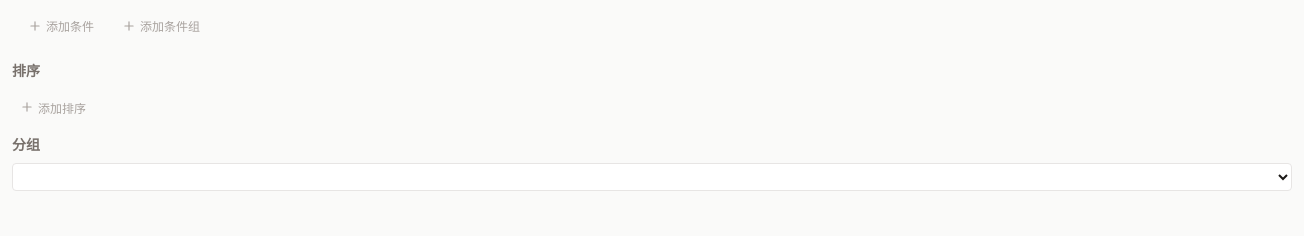
Scenario: FilterBuilder 字段选择器 › 渲染注册表中的全部字段
The image size is (1304, 236).
Click the button "添加条件" at (61, 26), box [20,14,102,37]
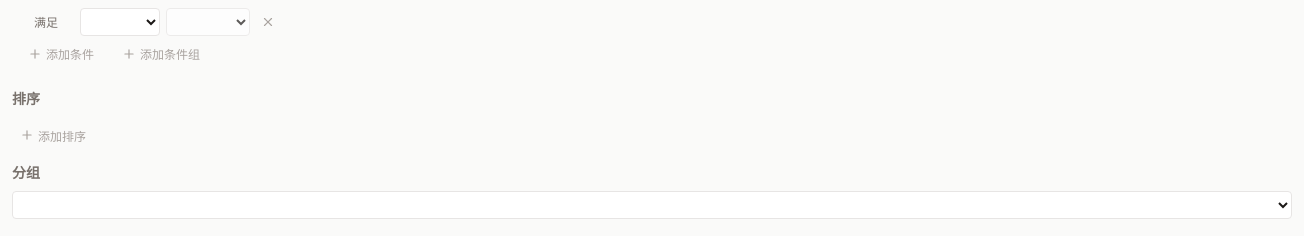
Expected: the 1st dropdown is shown, [80,8,160,36]
